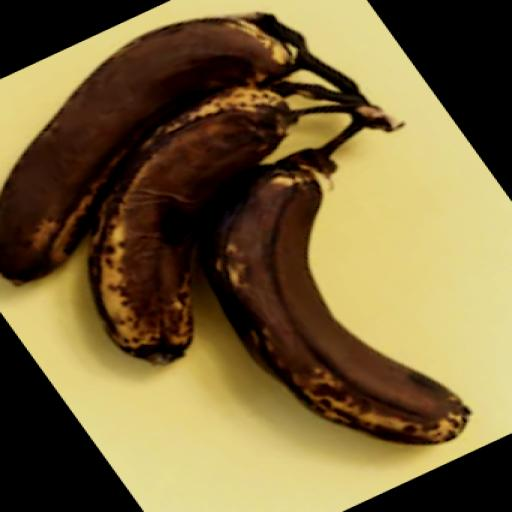banana-overripe: (0, 0, 512, 459)
